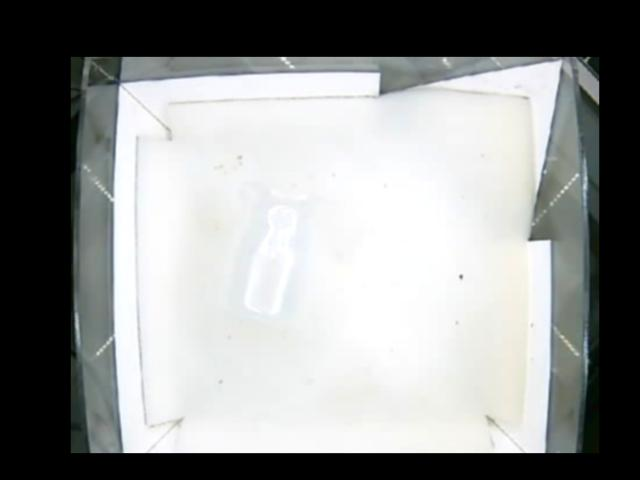Bottle: (235, 184, 312, 321)
